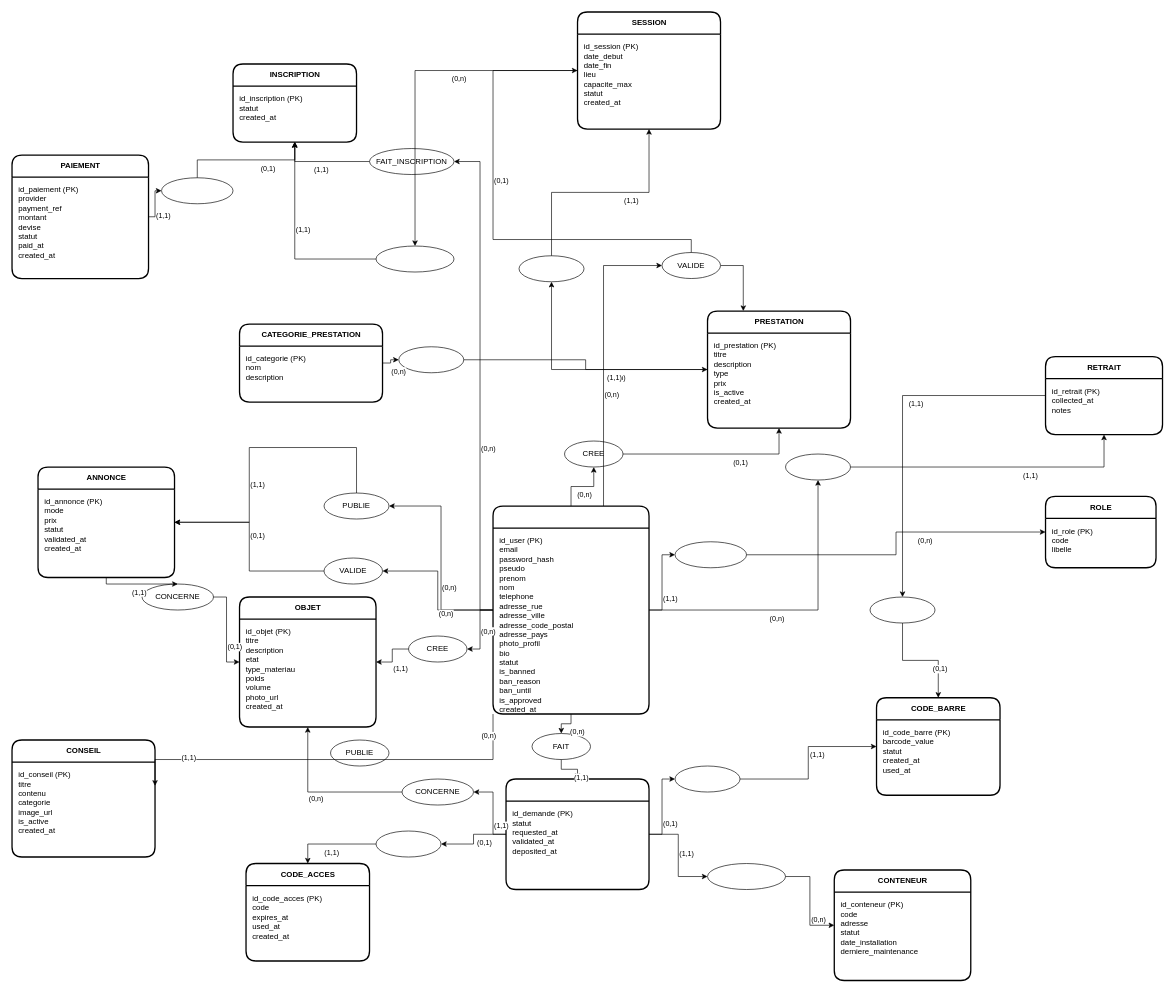
Some shapes in this 1174 by 992 pixel diagram are drawn without their labels. Here are the shapes that lost their labels. From the top down, the box of each, then its label:
(161, 177, 233, 204): DONNE_LIEU_A
(375, 245, 454, 272): A_INSCRIPTION
(518, 255, 584, 282): PROPOSE
(398, 346, 464, 373): CLASSE
(785, 453, 851, 480): EFFECTUE
(674, 541, 747, 568): A_POUR_ROLE
(492, 505, 649, 714): UTILISATEUR
(869, 596, 935, 623): SCANNE
(674, 765, 740, 792): ATTRIBUE
(375, 830, 441, 857): GENERE
(505, 778, 649, 890): DEMANDE_DEPOT
(707, 863, 786, 890): DEPOSE_DANS
